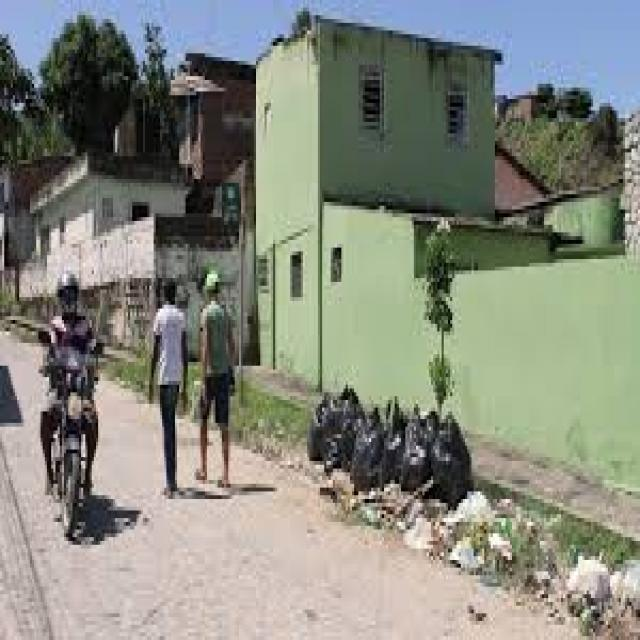garbage: (306, 362, 476, 557)
